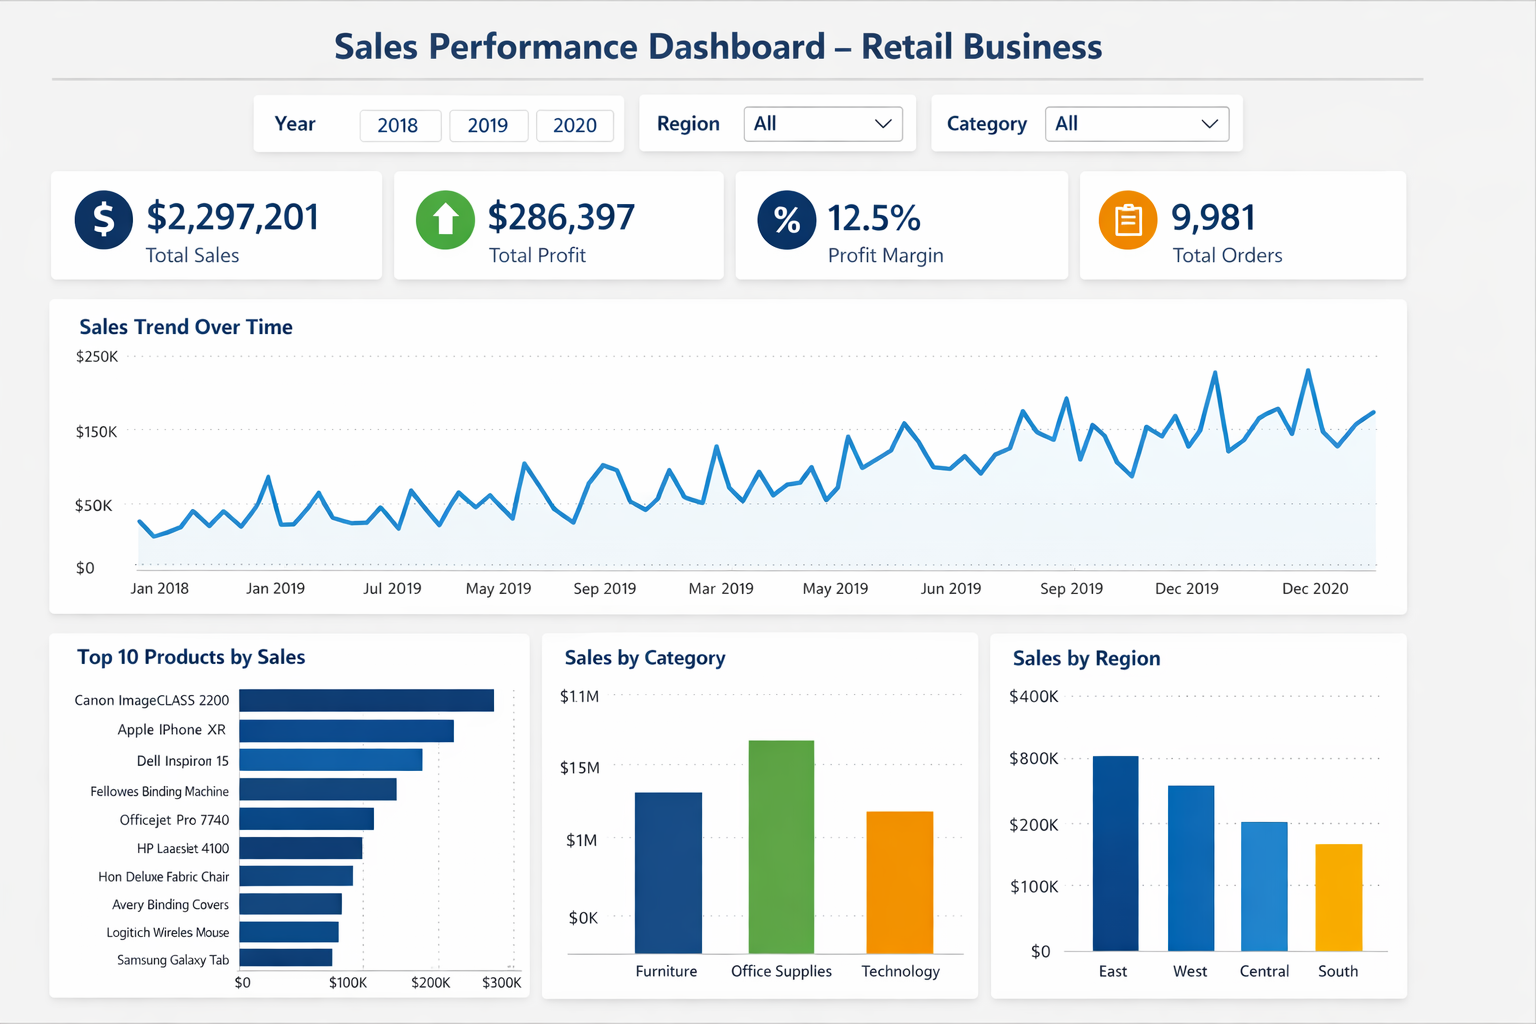

The dashboard page shown, as its layout file describes it:
{"tool":"powerbi","page":{"name":"Page 1","canvas":[1280,720],"ordinal":0},"visuals":[{"type":"lineChart","title":"Sales Trend Over Time","fields":{"Y":["Orders.Total Sales"],"Category":["Orders.year"]},"box":[24.1,253.4,1177.6,189.7],"z":0},{"type":"clusteredBarChart","title":"Top 10 Products By Sales","fields":{"Category":["Orders.Product"],"Y":["Orders.Total Sales"]},"box":[24.1,455.2,431,251.7],"z":1000},{"type":"clusteredColumnChart","title":"Sales by Category","fields":{"Category":["Orders.Category"],"Y":["Orders.Total Sales"]},"box":[846.6,455.2,355.2,251.7],"z":2000},{"type":"barChart","title":"Sales by Region","fields":{"Category":["Orders.Region"],"Y":["Orders.Total Sales"]},"box":[477.6,455.2,329.3,251.7],"z":3000},{"type":"slicer","title":"Region","fields":{"Values":["Orders.Region"]},"box":[567.2,72.4,279.3,74.1],"z":4000},{"type":"slicer","fields":{"Values":["Orders.Category"]},"box":[903.4,72.4,248.3,74.1],"z":5000},{"type":"card","fields":{"Values":["Orders.Total Sales"]},"box":[24.1,158.6,265.5,82.8],"z":6000},{"type":"card","fields":{"Values":["Orders.Total Profit"]},"box":[305.2,158.6,298.3,82.8],"z":7000},{"type":"card","fields":{"Values":["Orders.Profit Margin %"]},"box":[613.8,158.6,289.7,82.8],"z":8000},{"type":"card","fields":{"Values":["Orders.Total Orders"]},"box":[922.4,158.6,279.3,82.8],"z":9000},{"type":"textbox","box":[219,0,919,56.9],"z":10000},{"type":"slicer","fields":{"Values":["Orders.year"]},"box":[203.4,72.4,312.1,74.1],"z":11000}]}

Visuals, with their boxes on the page's 1280x720 design canvas (x1, y1, x2, y2). These are canvas units, not pixel positions in the 1536x1024 screenshot, which may show the page scaled, cropped or inside an application window:
"Sales Trend Over Time" lineChart: l=24, t=253, r=1202, b=443
"Top 10 Products By Sales" clusteredBarChart: l=24, t=455, r=455, b=707
"Sales by Category" clusteredColumnChart: l=847, t=455, r=1202, b=707
"Sales by Region" barChart: l=478, t=455, r=807, b=707
"Region" slicer: l=567, t=72, r=846, b=146
slicer - Orders.Category: l=903, t=72, r=1152, b=146
card - Orders.Total Sales: l=24, t=159, r=290, b=241
card - Orders.Total Profit: l=305, t=159, r=604, b=241
card - Orders.Profit Margin %: l=614, t=159, r=904, b=241
card - Orders.Total Orders: l=922, t=159, r=1202, b=241
textbox: l=219, t=0, r=1138, b=57
slicer - Orders.year: l=203, t=72, r=516, b=146
